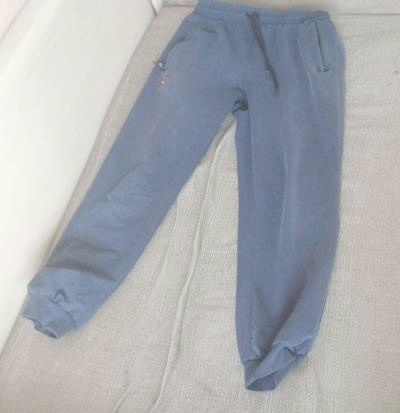Pants: (15, 8, 353, 374)
